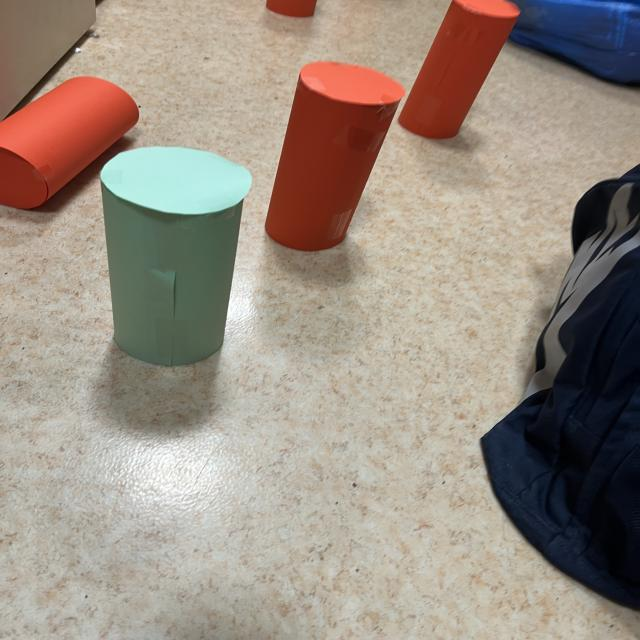meta: (100, 147, 251, 366)
przeszkoda: (265, 62, 405, 250), (0, 77, 139, 209), (398, 0, 519, 139)
